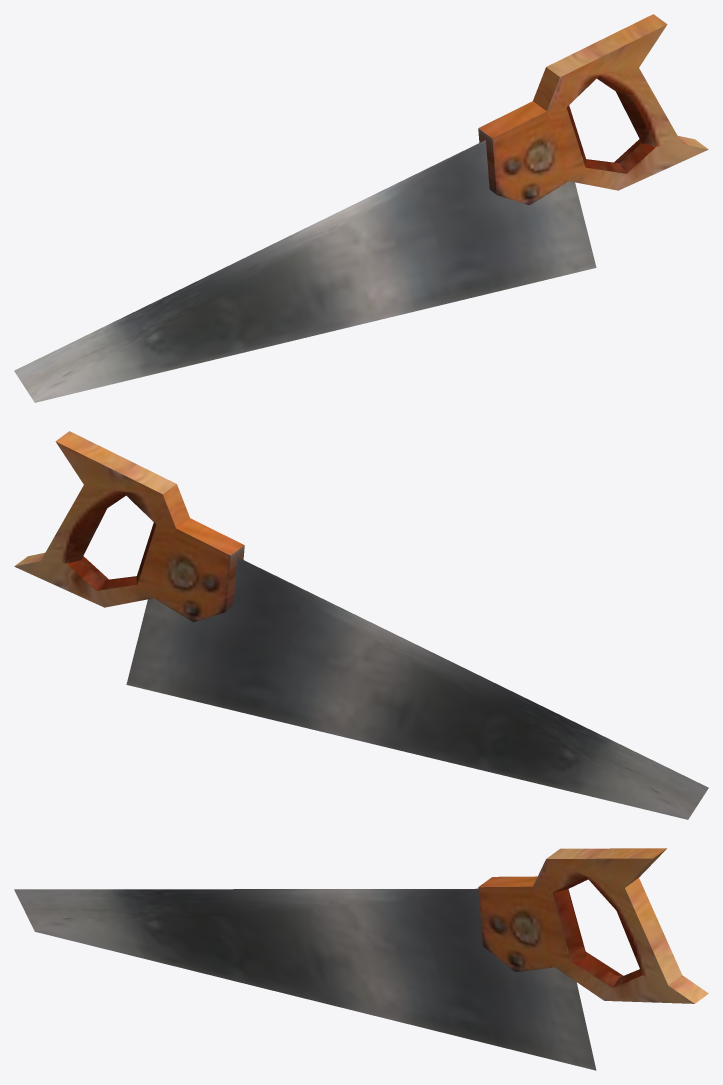
The model's file is HandSaw.obj.
3 views of the same model, one above another, from view 1: azimuth 30°, elevation 25°; view 2: azimuth 150°, elevation 25°; view 3: azimuth 330°, elevation 25° (orthographic).
Visible parts, largest first — view 1: BackSaw; view 2: BackSaw; view 3: BackSaw.
Boxes of the visible parts, left/top/right/bottom form: BackSaw: left=14, top=14, right=708, bottom=402; BackSaw: left=14, top=431, right=708, bottom=819; BackSaw: left=14, top=848, right=708, bottom=1070.
Size of the model in its own units: 3.2 by 1.04 by 0.1138.
1 material, 1 textured.
